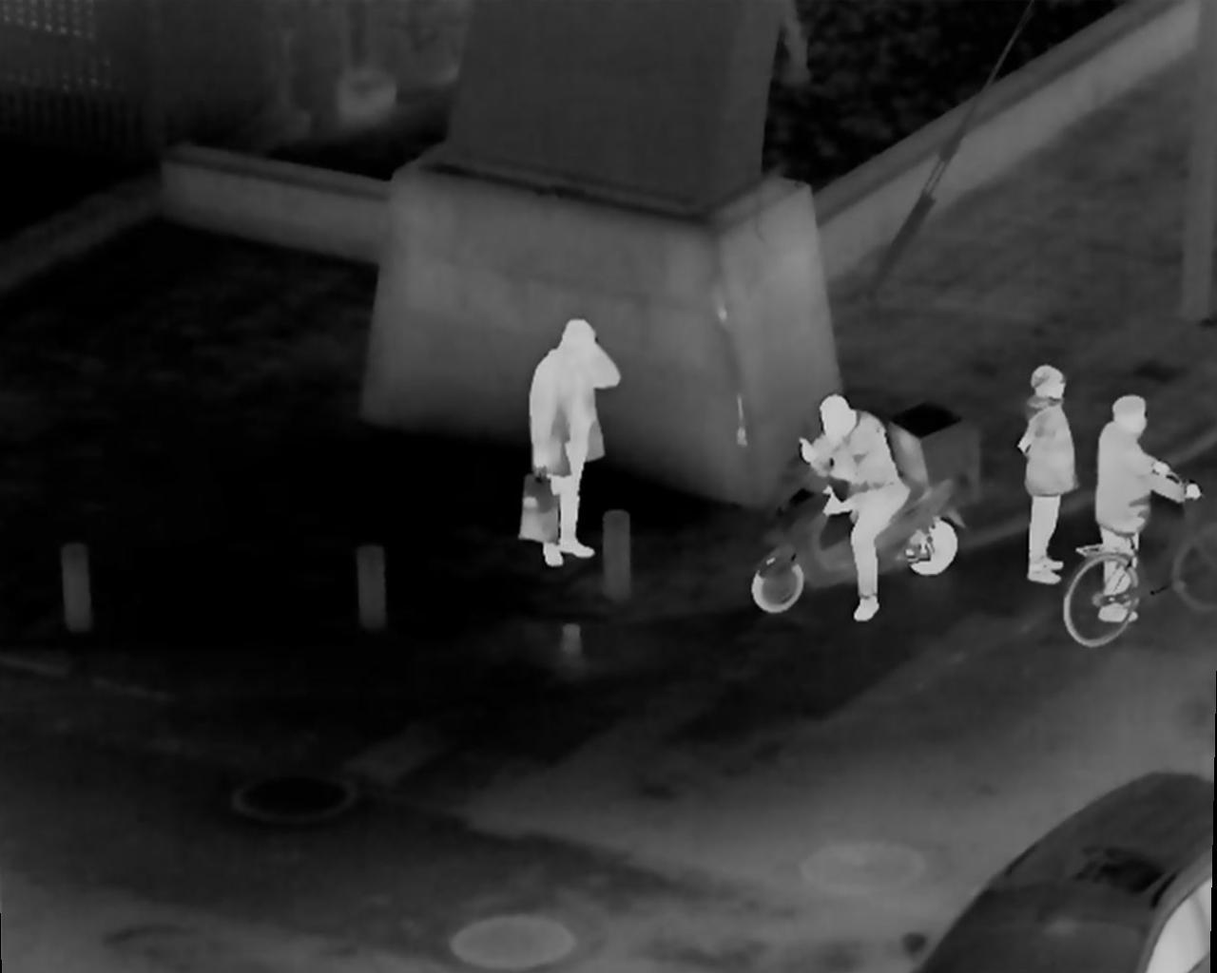person: (794, 393, 916, 614), (521, 320, 628, 556), (1093, 385, 1178, 618), (1026, 367, 1082, 577)
